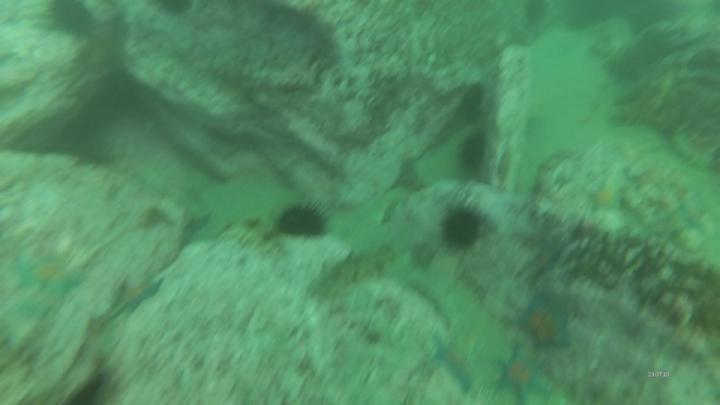echinus: (440, 206, 485, 253), (277, 205, 327, 239), (46, 2, 96, 36), (458, 127, 492, 174), (462, 80, 486, 117)
holothurian: (312, 243, 397, 302)
starfish: (13, 252, 86, 302), (494, 343, 552, 404), (518, 292, 574, 353), (430, 335, 479, 394), (116, 274, 164, 318), (590, 179, 626, 218)
